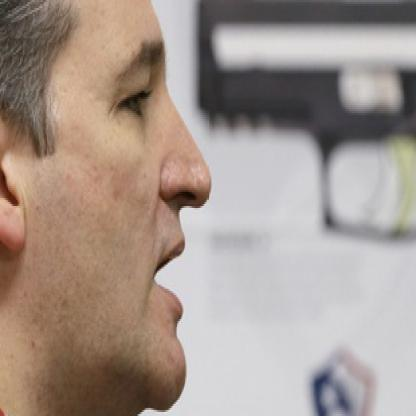gun: (197, 0, 415, 414)
